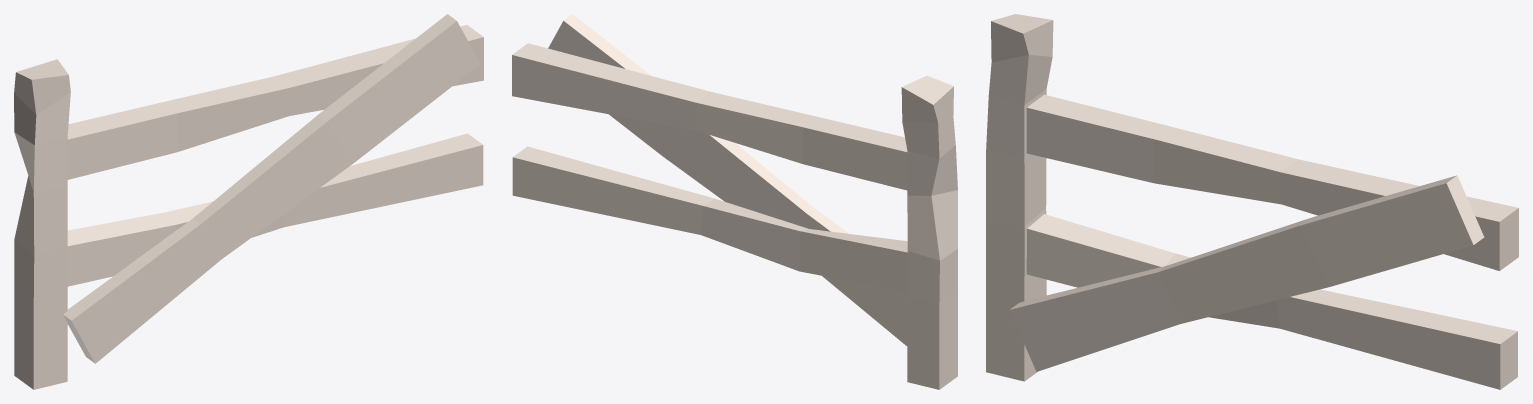
The model's file is Fence_3.fbx.
3 renders of one model, left to right at view 1: azimuth 30°, elevation 25°; view 2: azimuth 150°, elevation 25°; view 3: azimuth 330°, elevation 25°, orthographic. The views are drawn at different scales.
Visible parts, largest first — view 1: Cube; view 2: Cube; view 3: Cube.
Boxes of the visible parts, box(x1,y1,x2,y2) form: Cube: box(14, 14, 483, 389); Cube: box(512, 14, 957, 389); Cube: box(986, 14, 1518, 389).
Bounding box in the file's own units: 5.12 × 3.33 × 0.6049.
